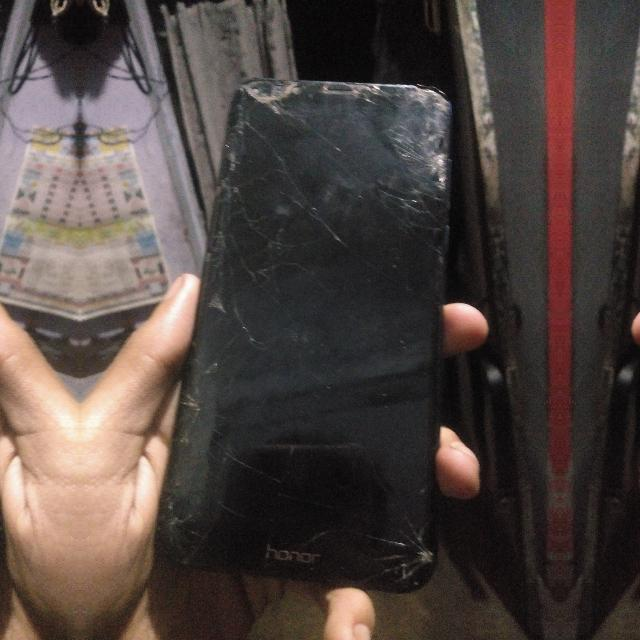phone_screen: (157, 80, 450, 591), (0, 517, 2, 546)
